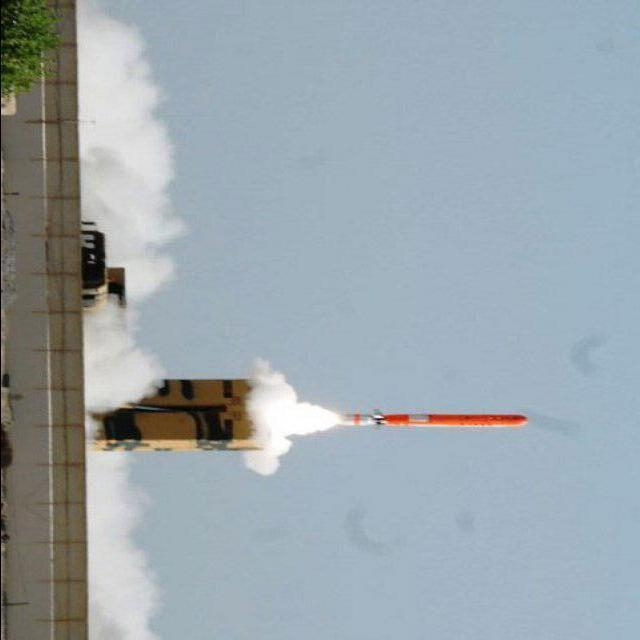missile: (331, 403, 530, 448)
